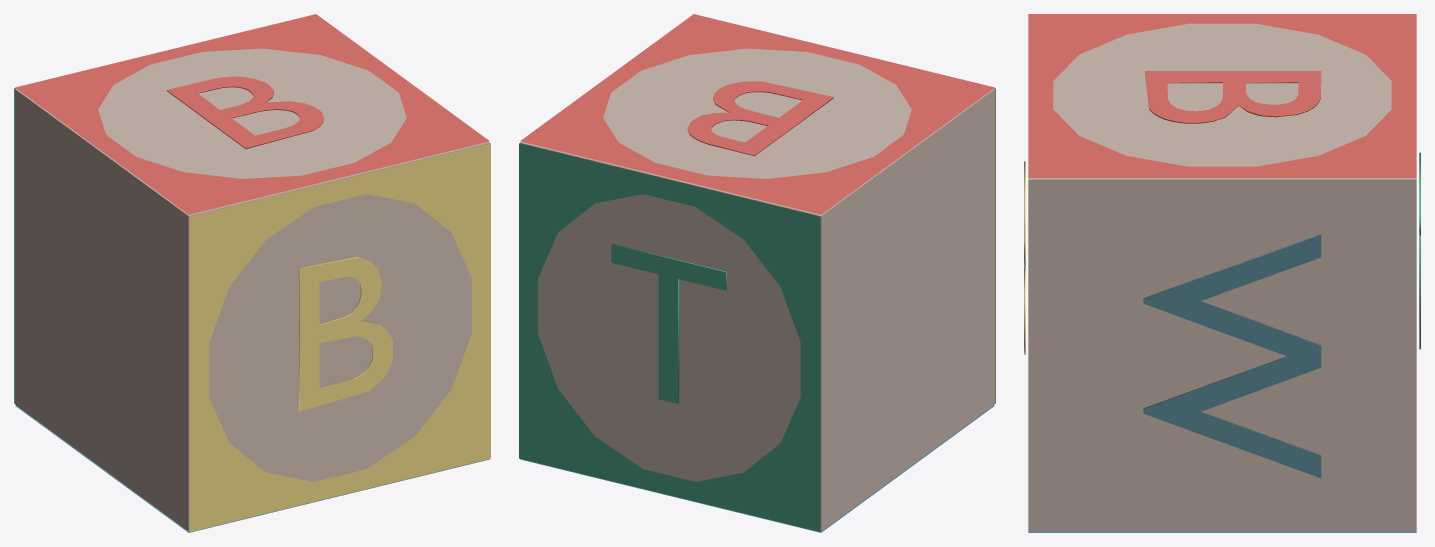
3 renders of one model, left to right at view 1: azimuth 30°, elevation 25°; view 2: azimuth 150°, elevation 25°; view 3: azimuth 270°, elevation 25°, orthographic. The views are drawn at different scales.
Visible parts, largest first — view 1: cube; view 2: cube; view 3: cube.
Part boxes in pixels (bbox=[...]): cube: bbox=[14, 14, 490, 532]; cube: bbox=[519, 14, 995, 532]; cube: bbox=[1024, 14, 1420, 532].
Bounding box in the file's own units: 0.0453 × 0.046 × 0.046.
